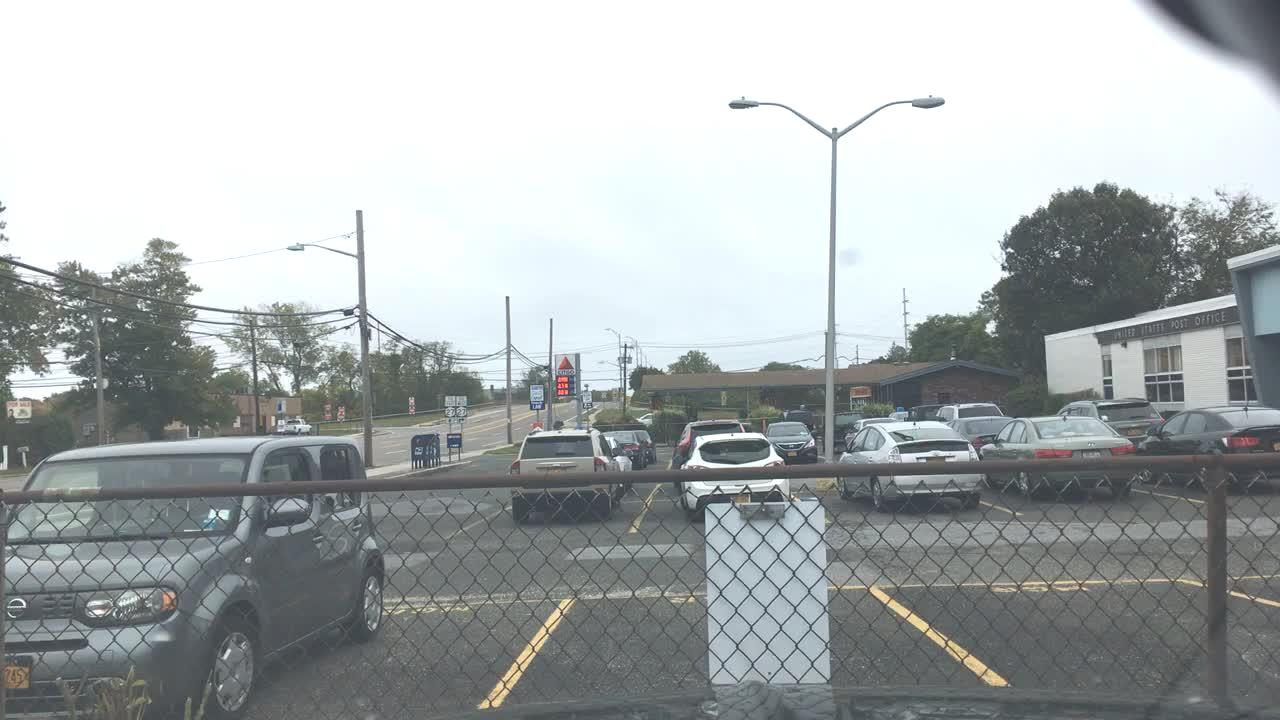Nissan: (3, 592, 40, 626)
